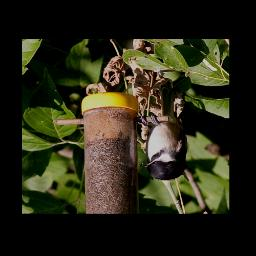Swallow: (137, 110, 189, 182)
